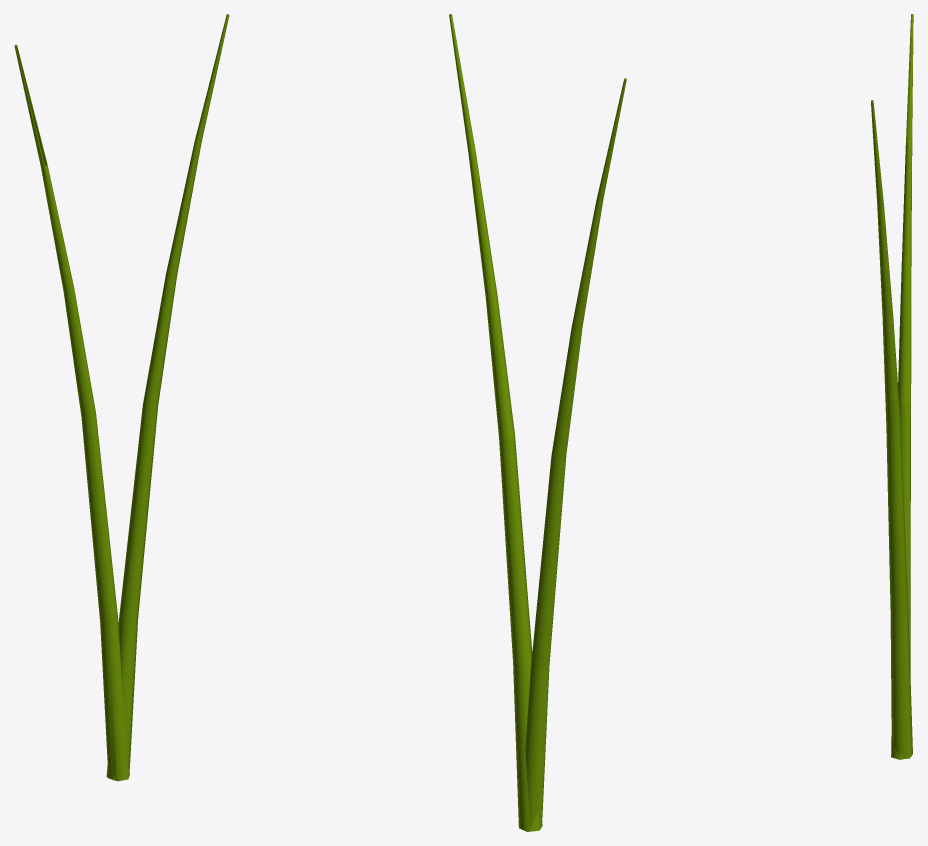
Rendered from milkweed_shoot.fbx.
3 views of the same model, side by side, from view 1: azimuth 30°, elevation 25°; view 2: azimuth 150°, elevation 25°; view 3: azimuth 270°, elevation 25° (orthographic). The views are drawn at different scales.
Visible parts, largest first — view 1: SketchUp.010; view 2: SketchUp.010; view 3: SketchUp.010.
Part boxes in pixels (<box>): SketchUp.010: <box>14,14,229,781</box>; SketchUp.010: <box>449,14,626,831</box>; SketchUp.010: <box>871,14,913,759</box>.
Size of the model in its own units: 20.85 by 55.88 by 18.75.
